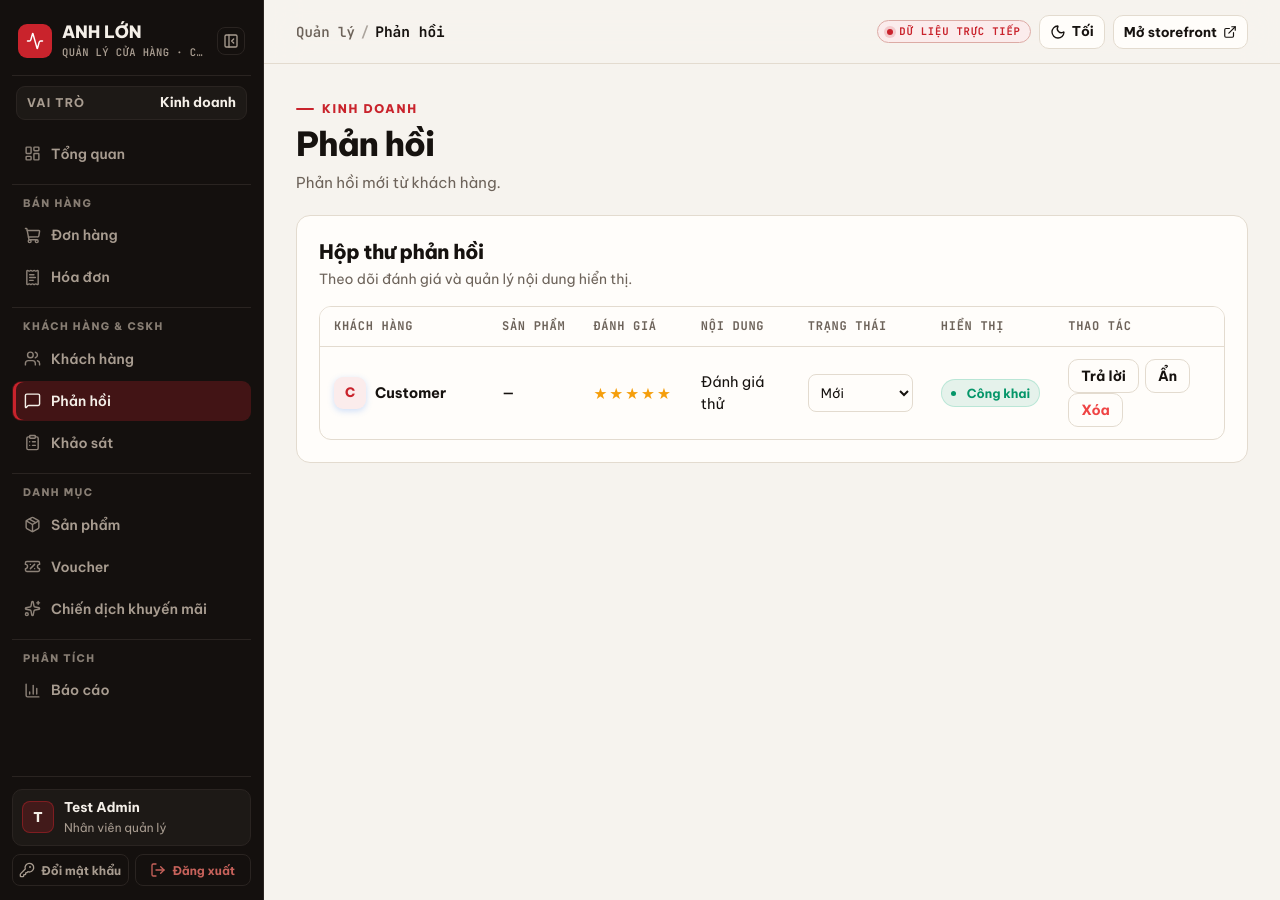
Test: manager navigation › saves and edits a reply while preserving the draft after an API error
The image size is (1280, 900).
Click the button "Trả lời" at (1104,376), box [1068, 359, 1139, 393]
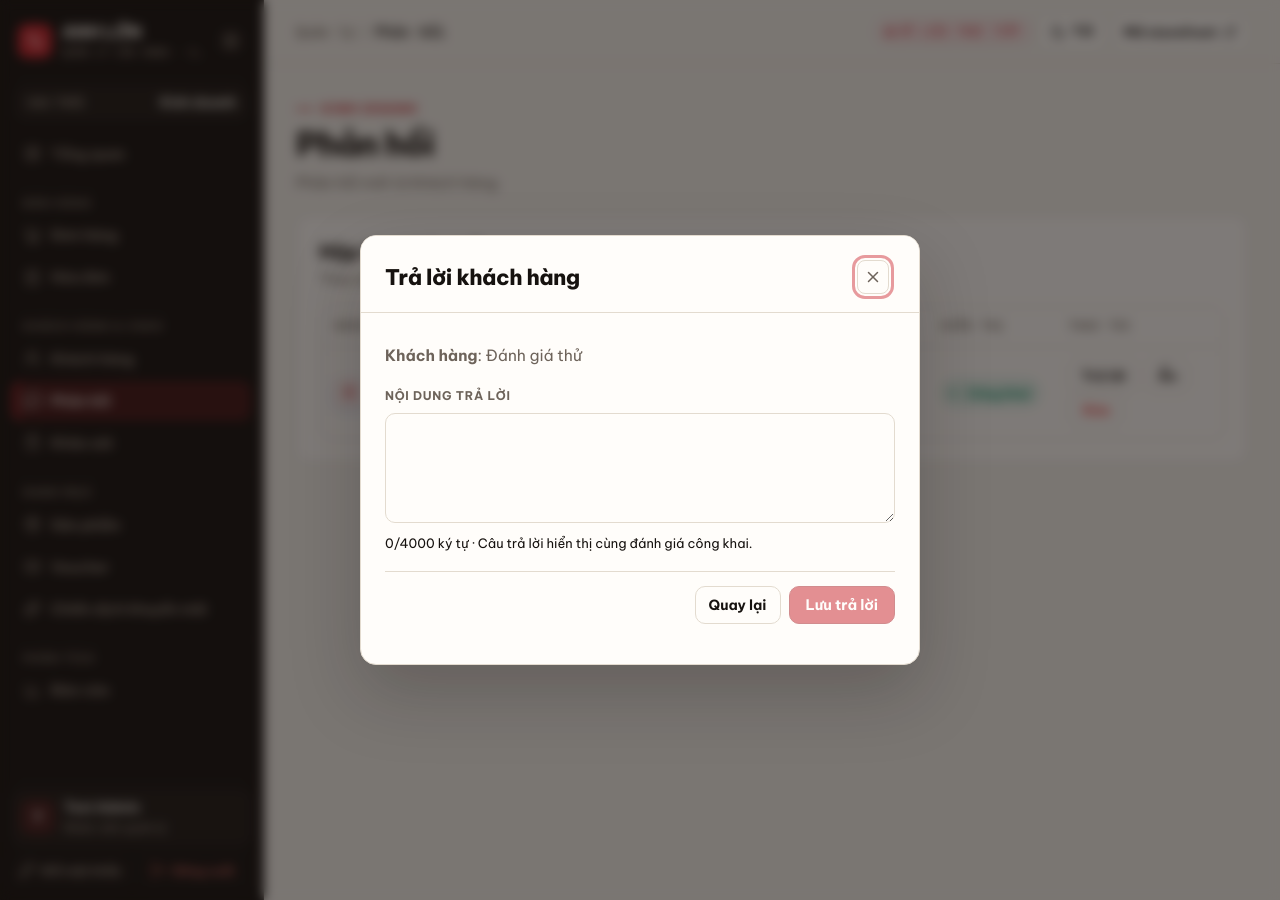
Expected: the button "Lưu trả lời" is disabled, [788, 586, 895, 624]
Type " Cảm ơn bạn " into the text box labelled "Nội dung trả lời" at (640,468), box [385, 413, 895, 523]
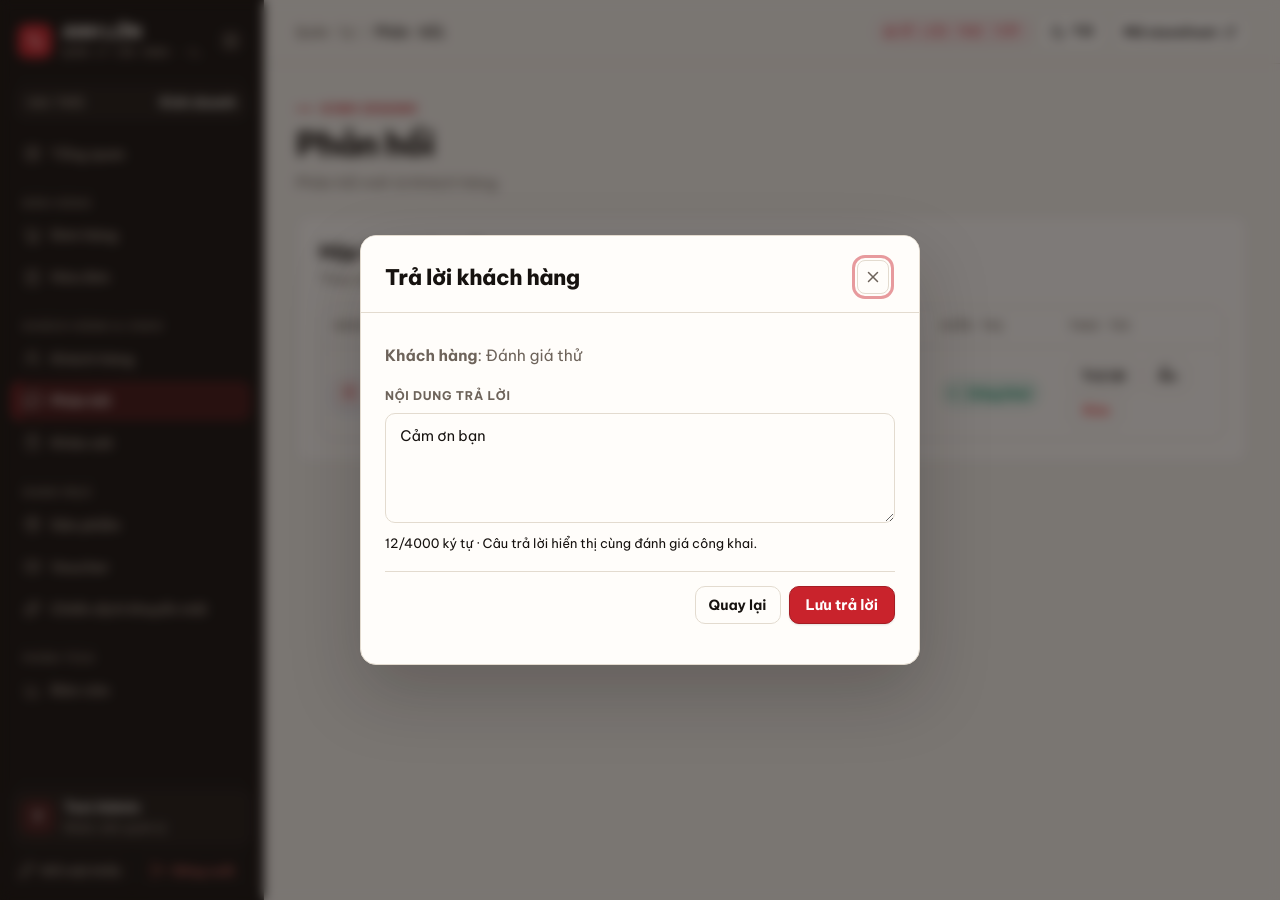
Click the button "Lưu trả lời" at (842,605), box [788, 586, 895, 624]
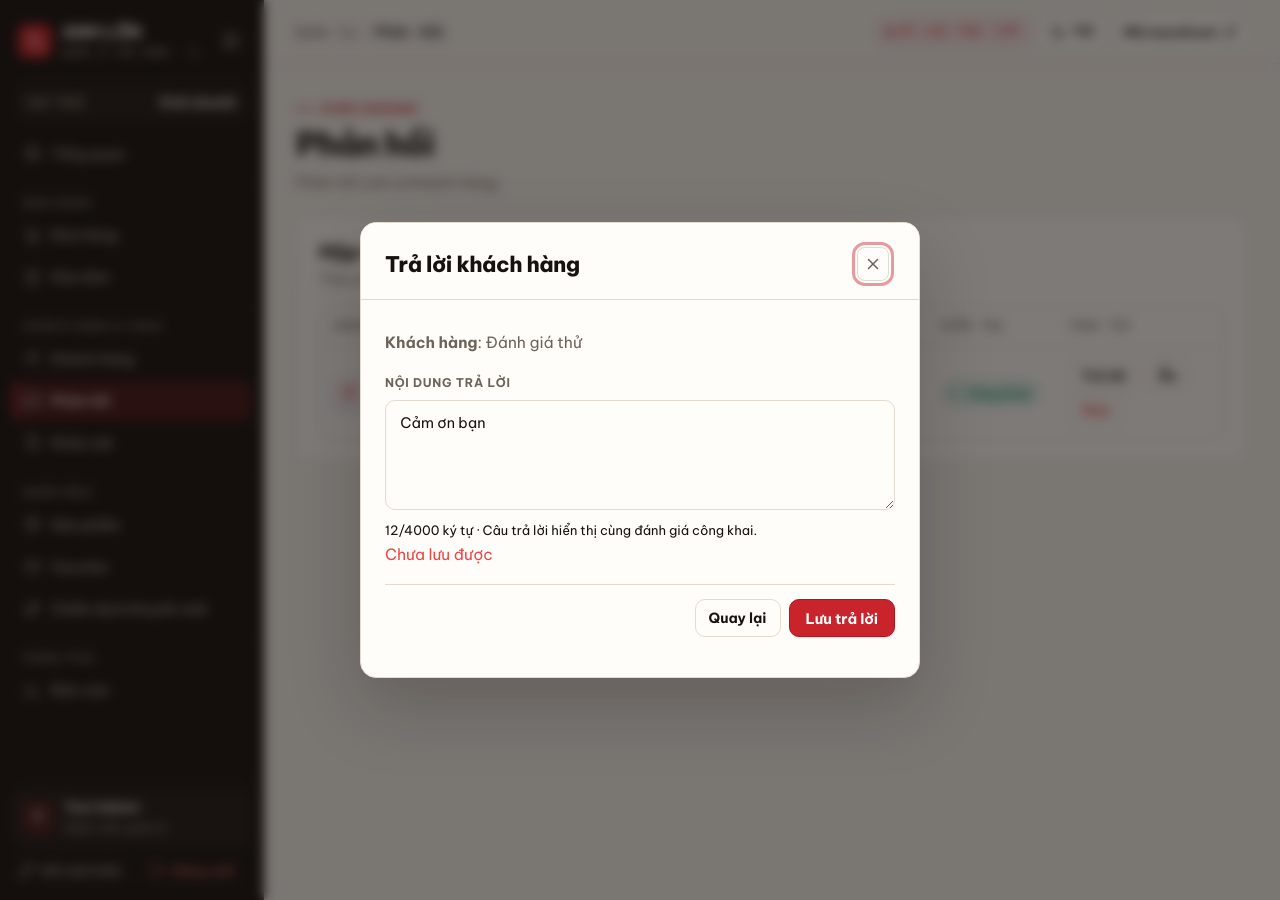
Expected: the message "Chưa lưu được" is shown, [385, 544, 493, 564]
Click the button "Lưu trả lời" at (842,618), box [788, 599, 895, 637]
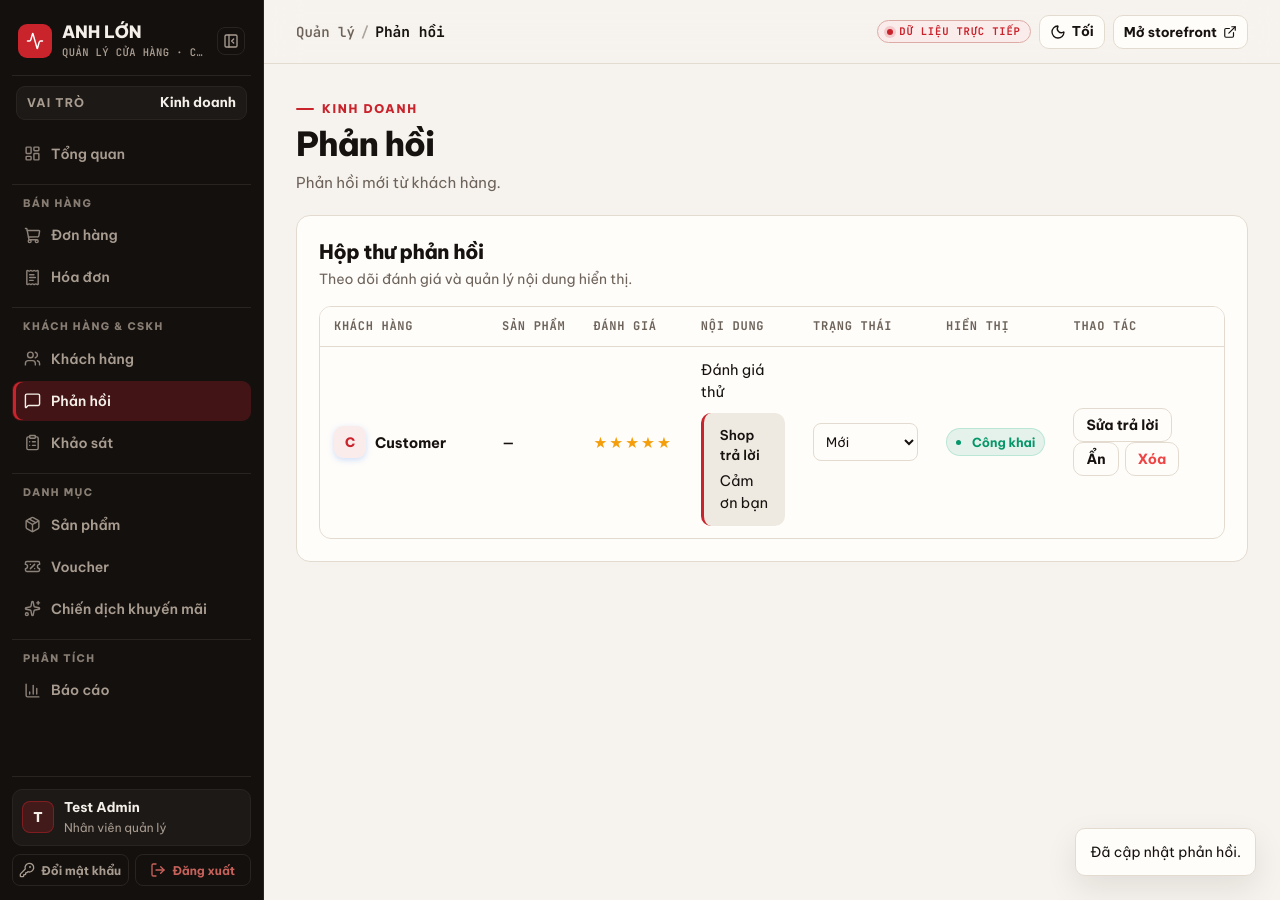
Expected: the text "Cảm ơn bạn" is shown, [720, 470, 769, 514]
Click the button "Sửa trả lời" at (1123,425), box [1074, 408, 1172, 442]
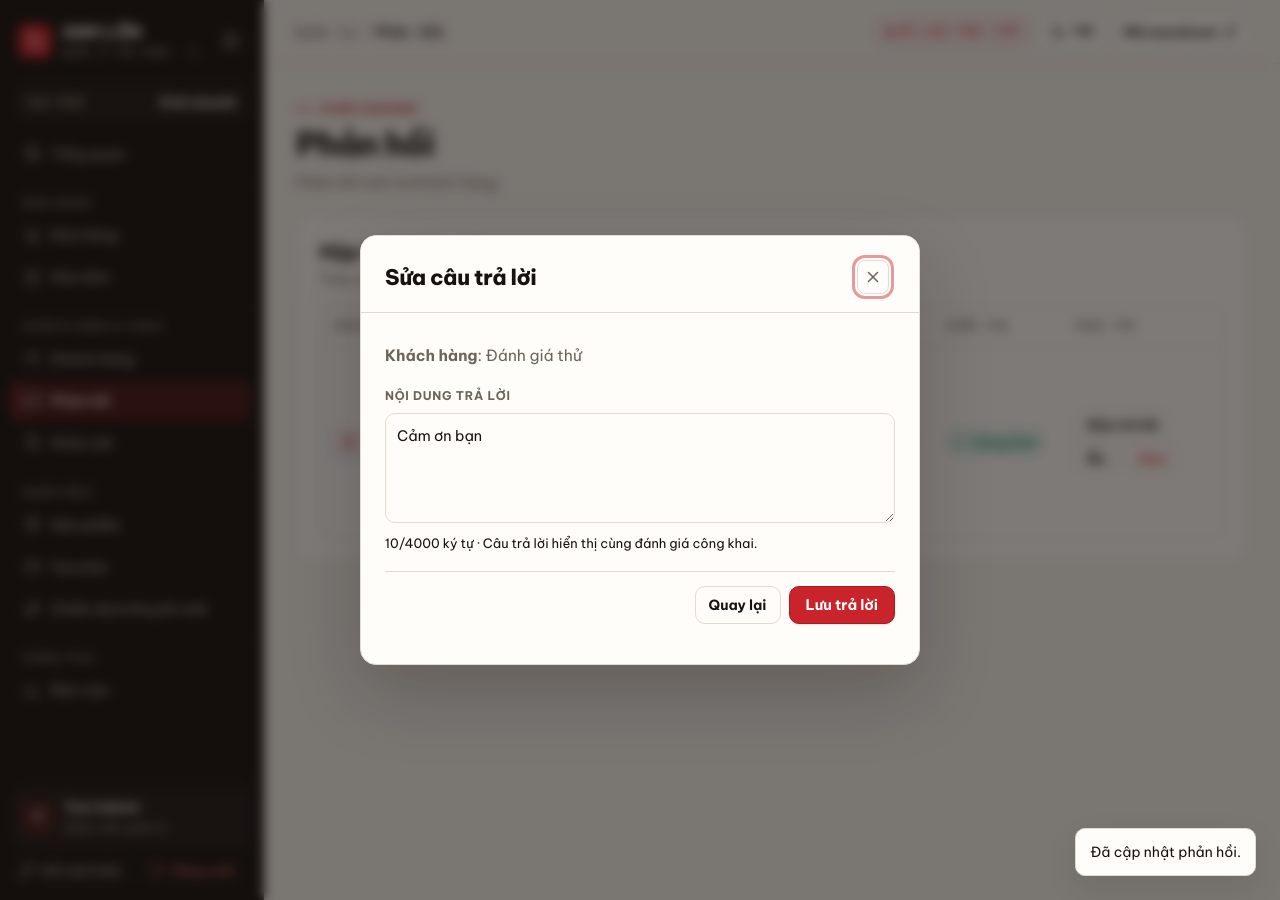
Expected: the text box labelled "Nội dung trả lời" holds "Cảm ơn bạn", [385, 413, 895, 523]
